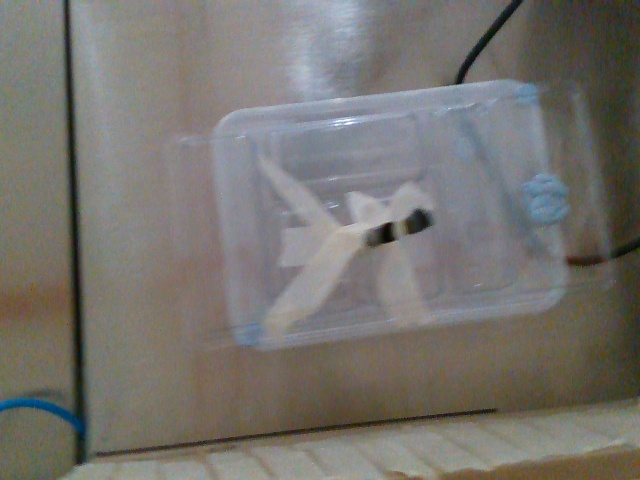test_strip: (391, 205, 432, 240)
